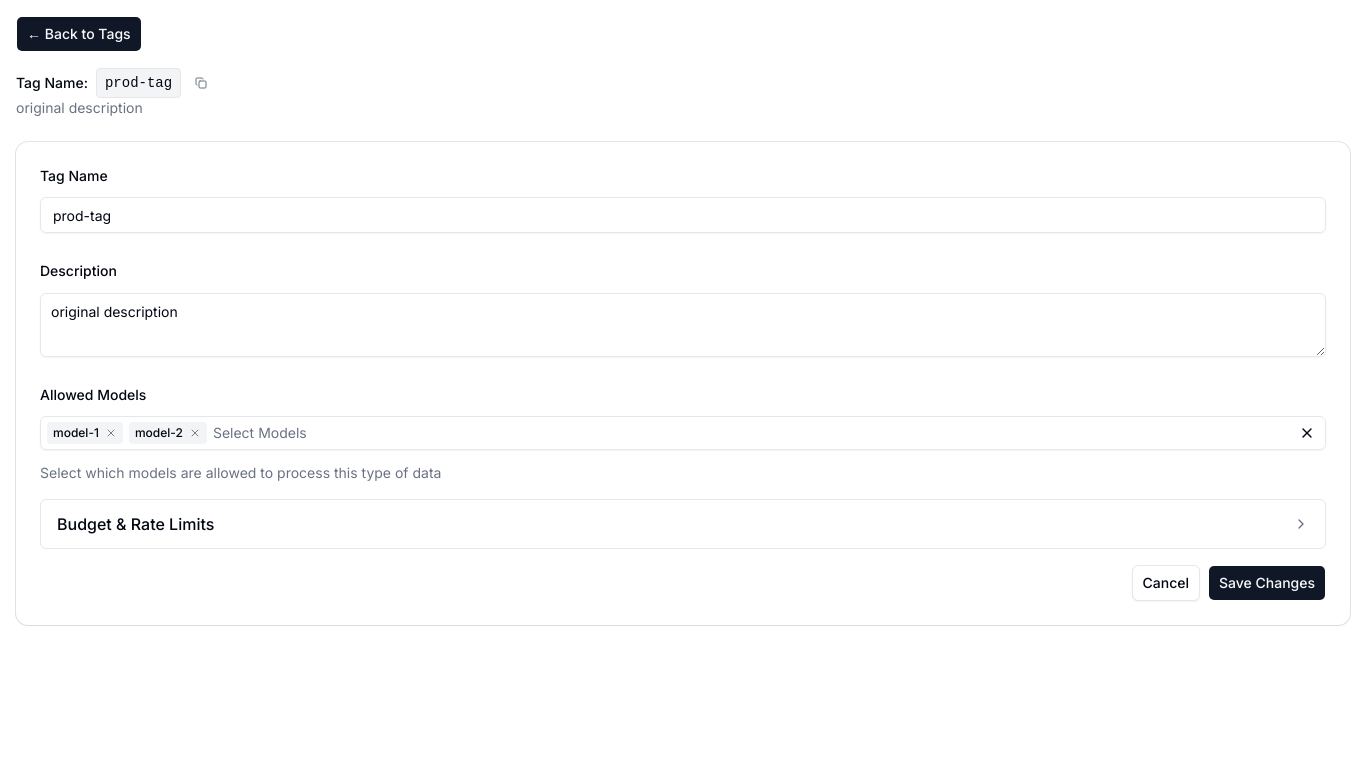
Test: TagInfoView save payload › should block the save when the tag name is cleared
Clear the field labelled "Tag Name" at (683, 215), box [40,197,1326,233]
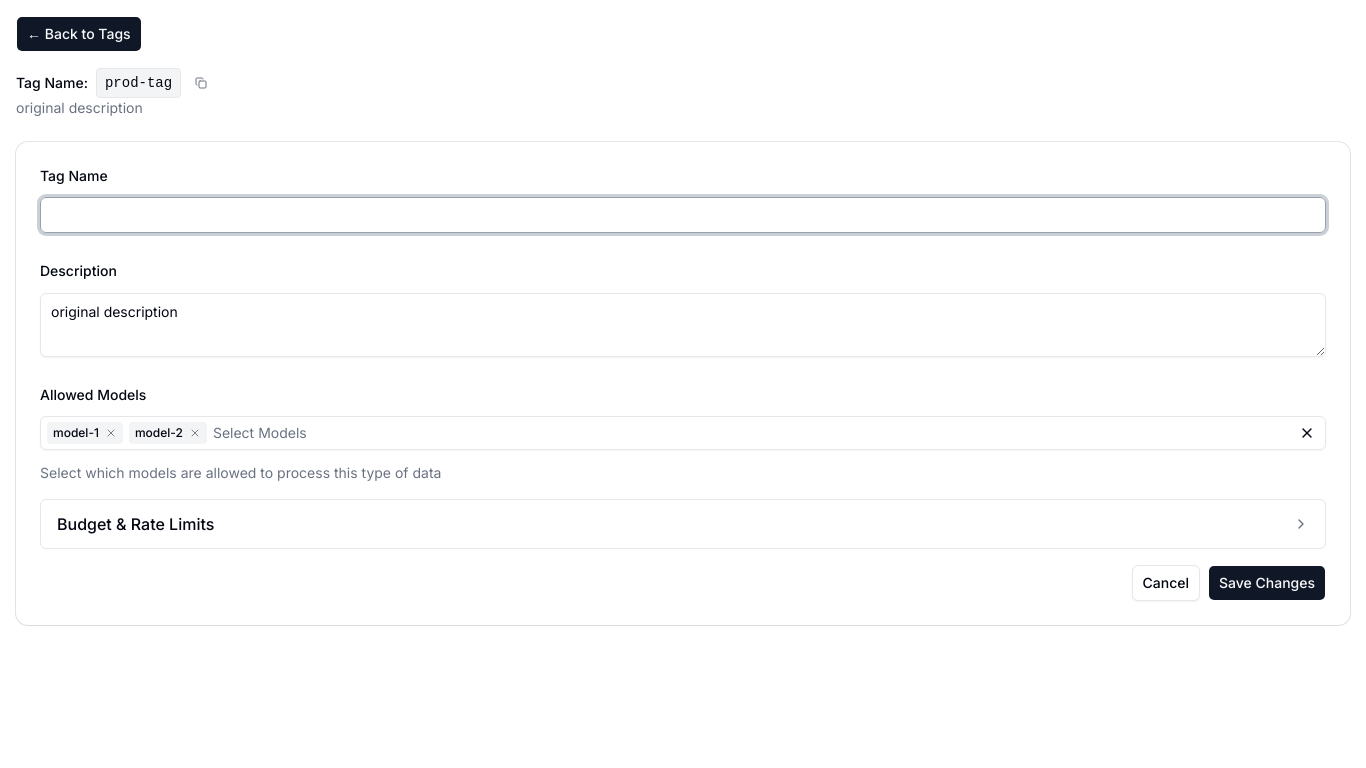
Click the button "Save Changes" at (1267, 583), box [1208,565,1326,601]
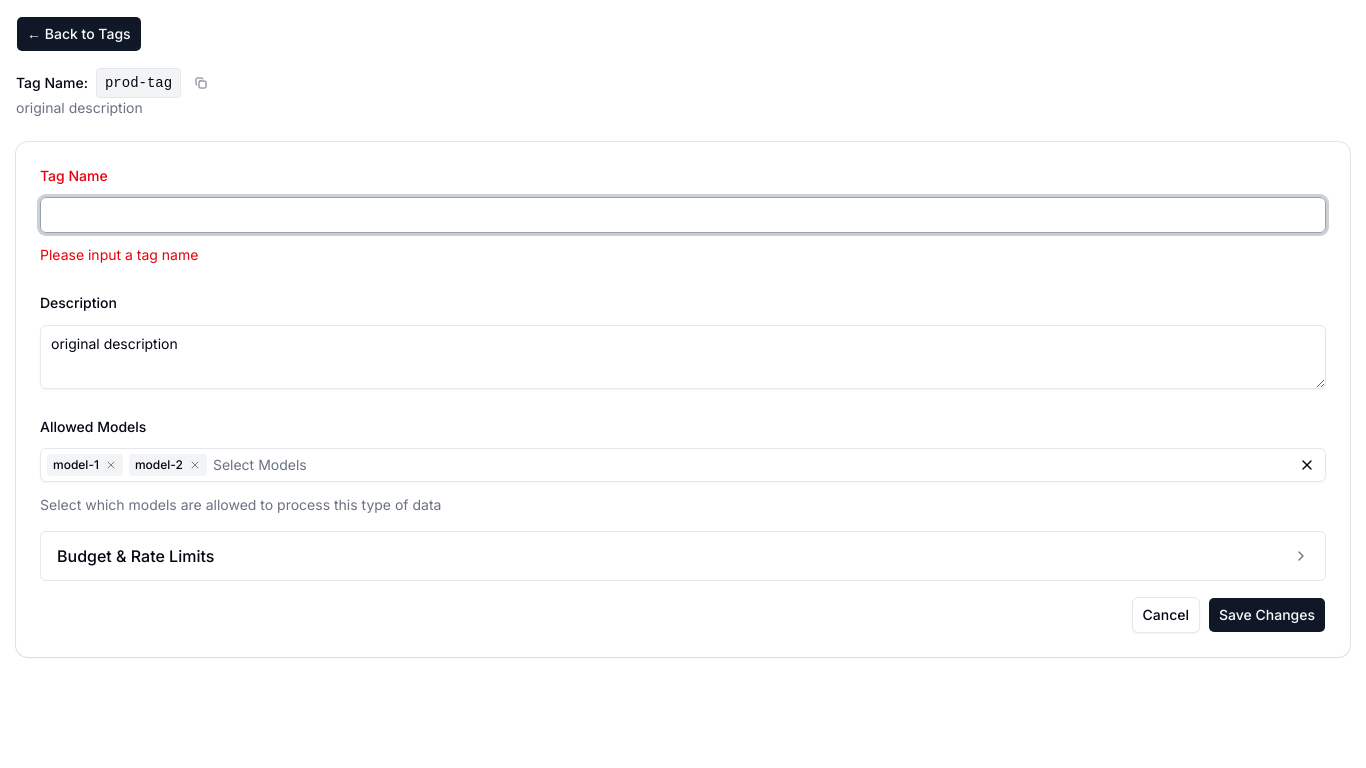
expect the text "Please input a tag name" is shown: met, box [40,246,198,263]
